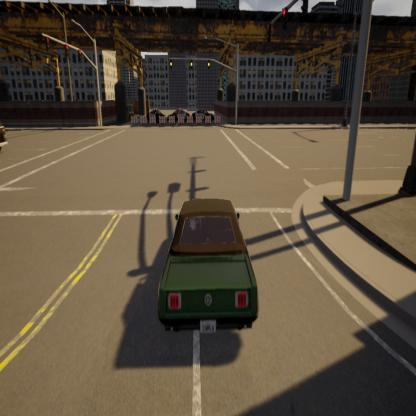Cars: (139, 185, 269, 346), (0, 110, 11, 163), (191, 105, 216, 127), (167, 106, 191, 125), (145, 104, 167, 124)
